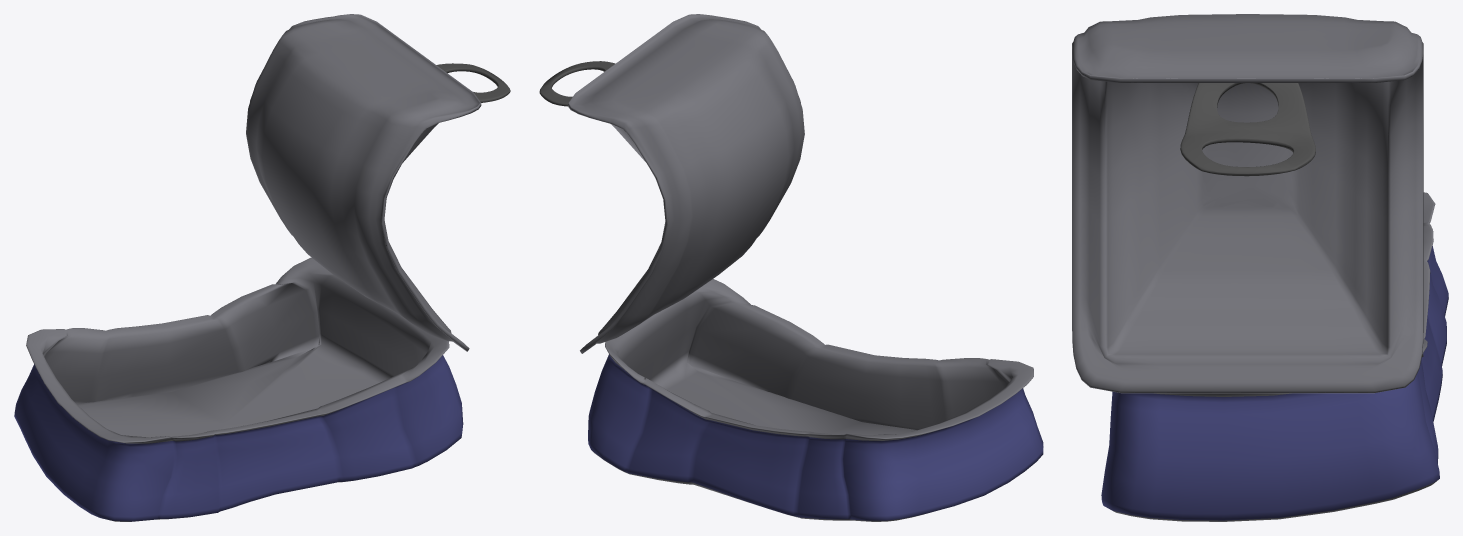
File: LataAzul.fbx
3 views of the same model, side by side, from view 1: azimuth 30°, elevation 25°; view 2: azimuth 150°, elevation 25°; view 3: azimuth 270°, elevation 25° (orthographic). The views are drawn at different scales.
Visible parts, largest first — view 1: Lata3Amassado.retopo, Tampa3Aberta.retopo; view 2: Lata3Amassado.retopo, Tampa3Aberta.retopo; view 3: Tampa3Aberta.retopo, Lata3Amassado.retopo.
Boxes of the visible parts, x1,y1,x2,y2 form: Lata3Amassado.retopo: (14, 257, 463, 521); Tampa3Aberta.retopo: (246, 14, 510, 351); Lata3Amassado.retopo: (588, 279, 1043, 521); Tampa3Aberta.retopo: (539, 14, 804, 353); Tampa3Aberta.retopo: (1072, 14, 1423, 393); Lata3Amassado.retopo: (1101, 192, 1448, 521).
Size of the model in its own units: 172 by 137 by 96.44.
